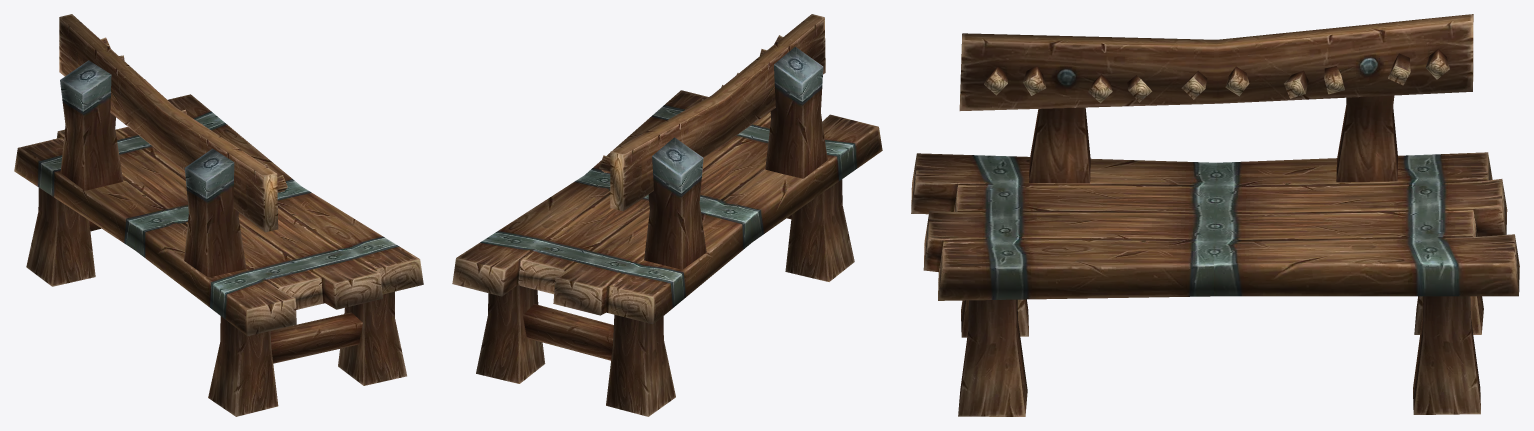
The picture shows the model from 3 angles, left to right: view 1: azimuth 30°, elevation 25°; view 2: azimuth 150°, elevation 25°; view 3: azimuth 270°, elevation 25°; orthographic projection. The views are drawn at different scales.
Bounding box in the file's own units: 1.69 × 2.09 × 3.68.
Materials: 1 (1 with a texture image).
